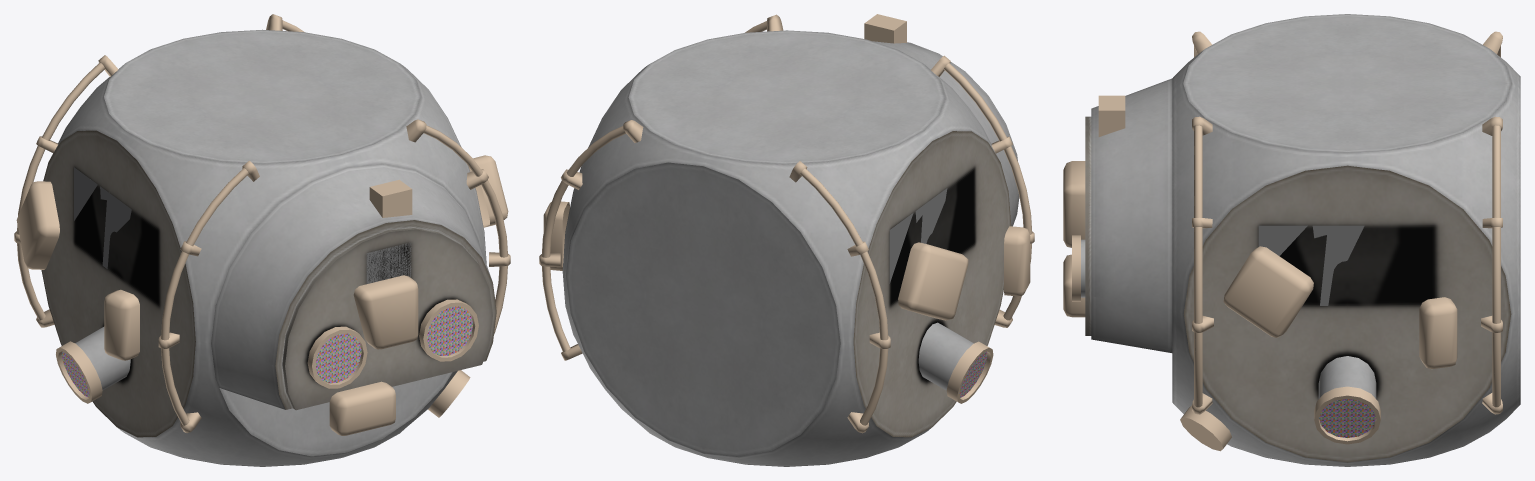
The model's file is kristall interior.obj.
3 views of the same model, side by side, from view 1: azimuth 30°, elevation 25°; view 2: azimuth 150°, elevation 25°; view 3: azimuth 270°, elevation 25° (orthographic). The views are drawn at different scales.
Visible parts, largest first — view 1: i2, im1, iw1; view 2: i2, im1, iw1; view 3: i2, im1, iw1.
Boxes of the visible parts, x1,y1,x2,y2 form: i2: (41,29,496,466); im1: (14,14,510,435); iw1: (61,306,472,397); i2: (562,30,1019,466); im1: (539,14,1034,433); iw1: (959,351,987,397); i2: (1081,14,1520,466); im1: (1063,31,1502,451); iw1: (1319,399,1375,437).
Size of the model in its own units: 1.36 by 1 by 1.29.
3 materials, 2 textured.
